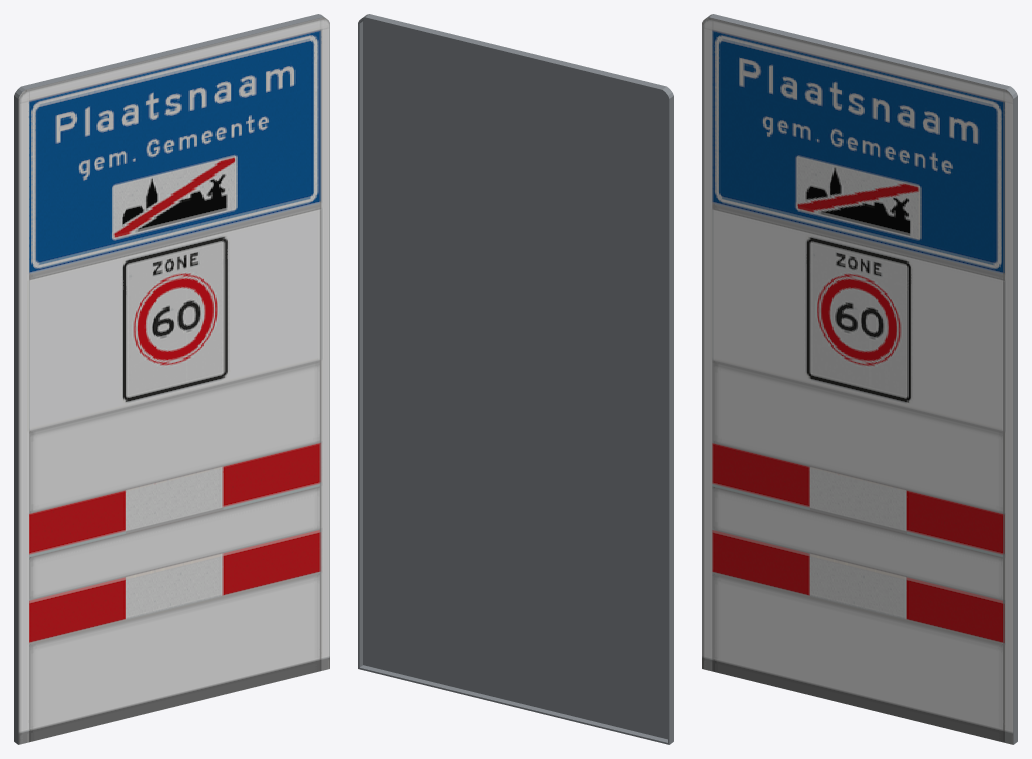
3 views of the same model, side by side, from view 1: azimuth 30°, elevation 25°; view 2: azimuth 150°, elevation 25°; view 3: azimuth 330°, elevation 25° (orthographic).
Visible parts, largest first — view 1: cat_9040369652a9b423; view 2: cat_9040369652a9b423; view 3: cat_9040369652a9b423.
Boxes of the visible parts, x1,y1,x2,y2 form: cat_9040369652a9b423: (14, 14, 329, 744); cat_9040369652a9b423: (358, 14, 673, 744); cat_9040369652a9b423: (702, 14, 1017, 744).
Size of the model in its own units: 0.6 by 0.015 by 1.2.
Materials: 2 (1 with a texture image).
